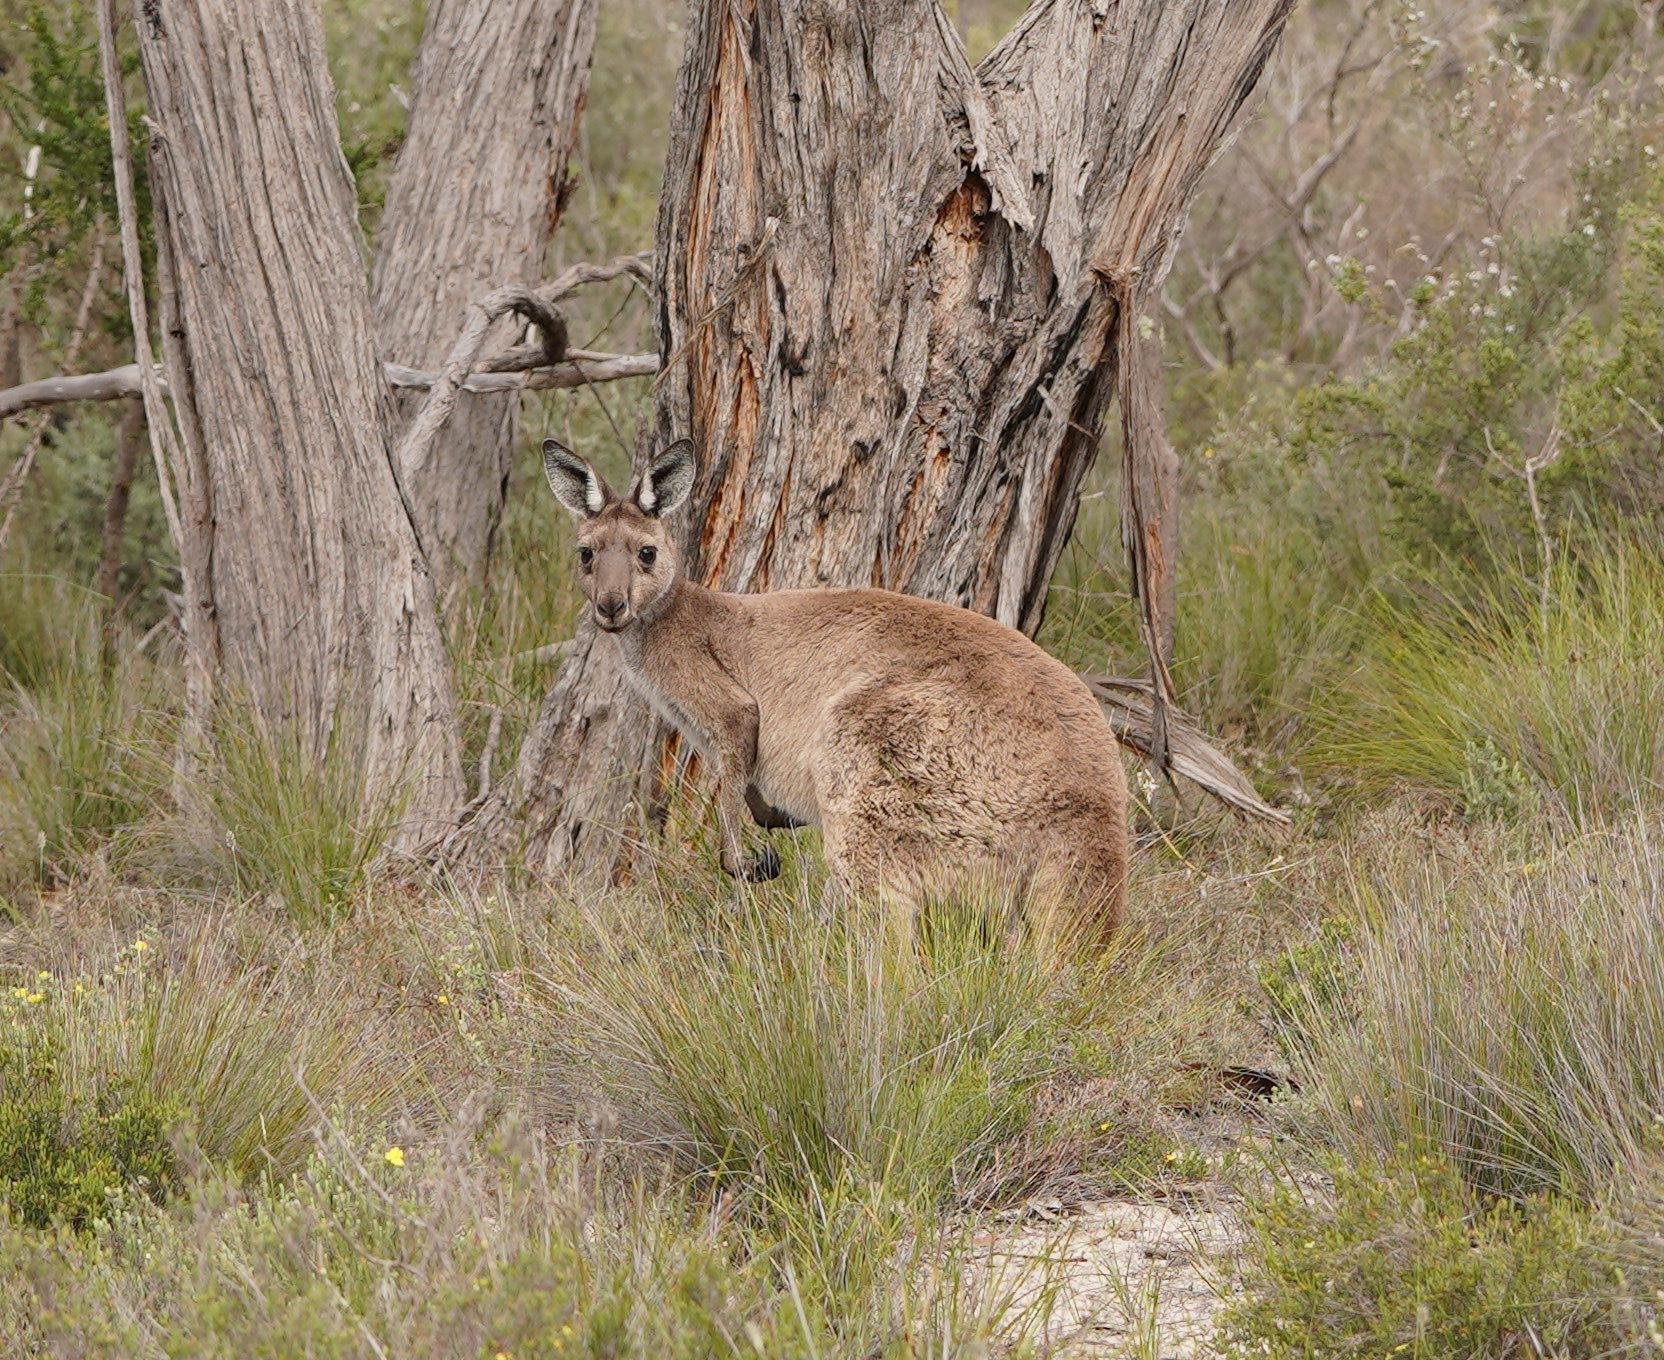Western grey kangaroo: (527, 448, 1171, 1026)
